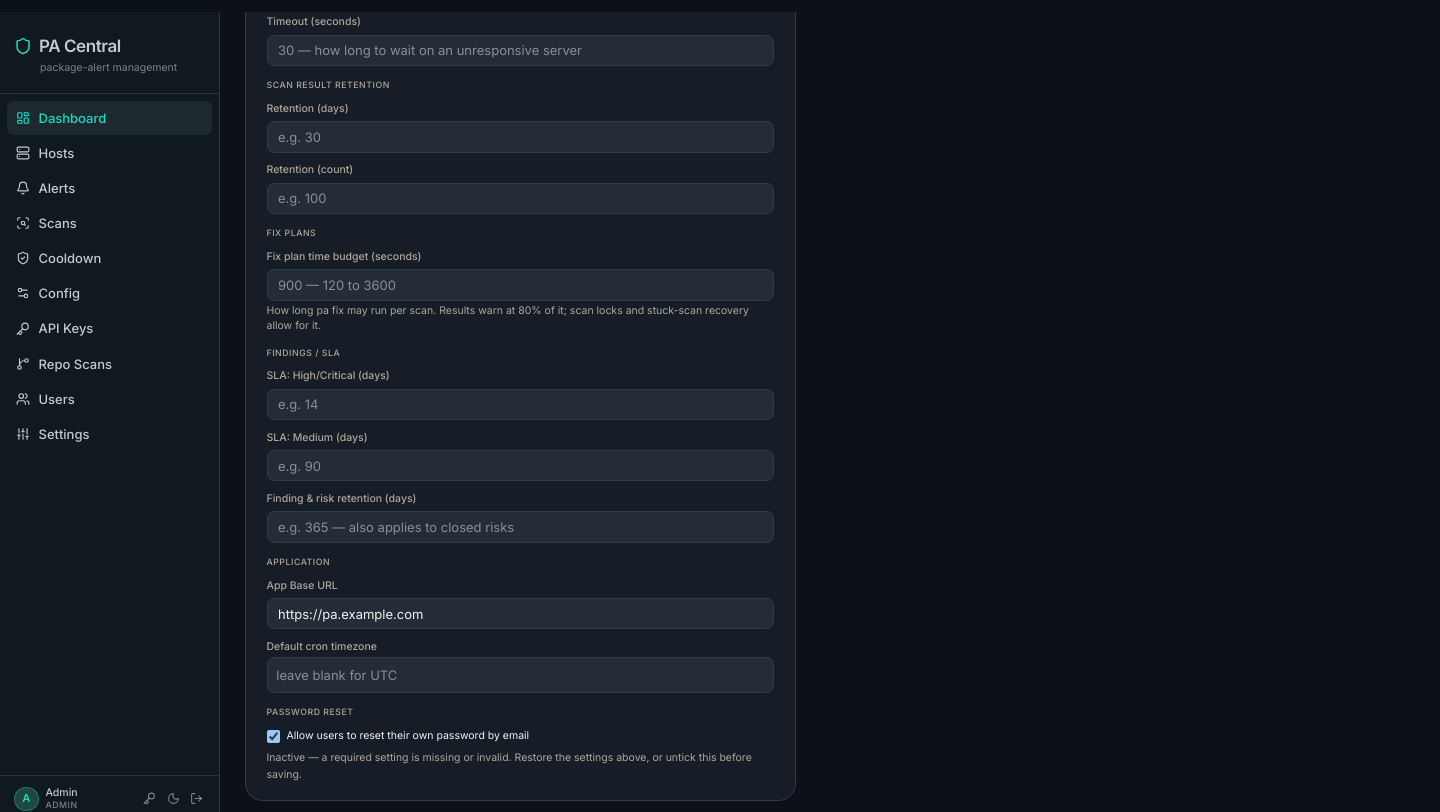
Test: SystemSettings — an unsaved edit to a dependency field cannot act on stale readiness › does not let a slow mount-time readiness response overwrite a fresher post-save one
The image size is (1440, 812).
(page scrolled)
Replace the text in the field labelled "App Base URL" with "https://new.pa.example.com" at (520, 614), box top-left (266, 598), bottom-right (774, 629)
(page scrolled)
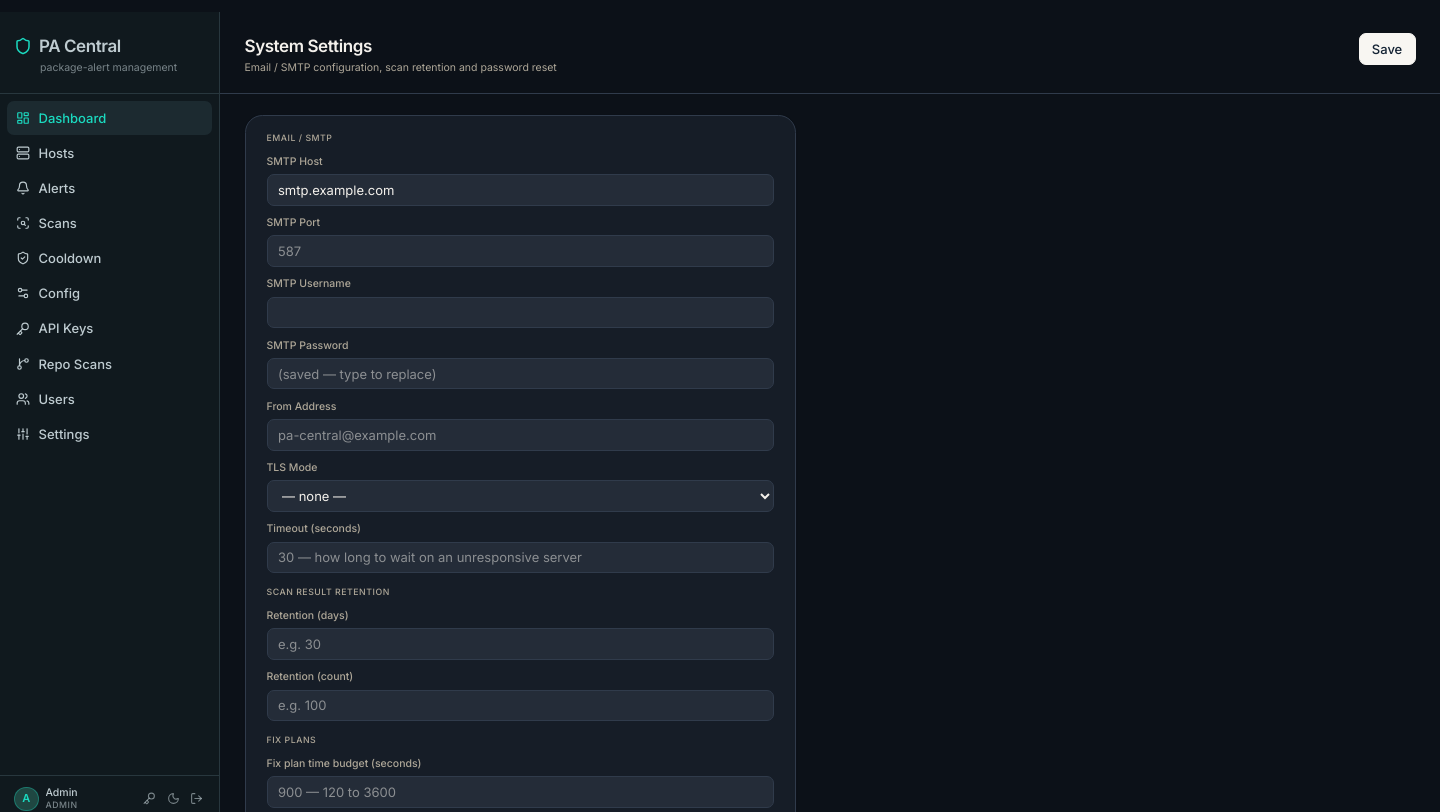
Click the button "Save" at (1387, 49), box top-left (1358, 33), bottom-right (1416, 64)
(page scrolled)
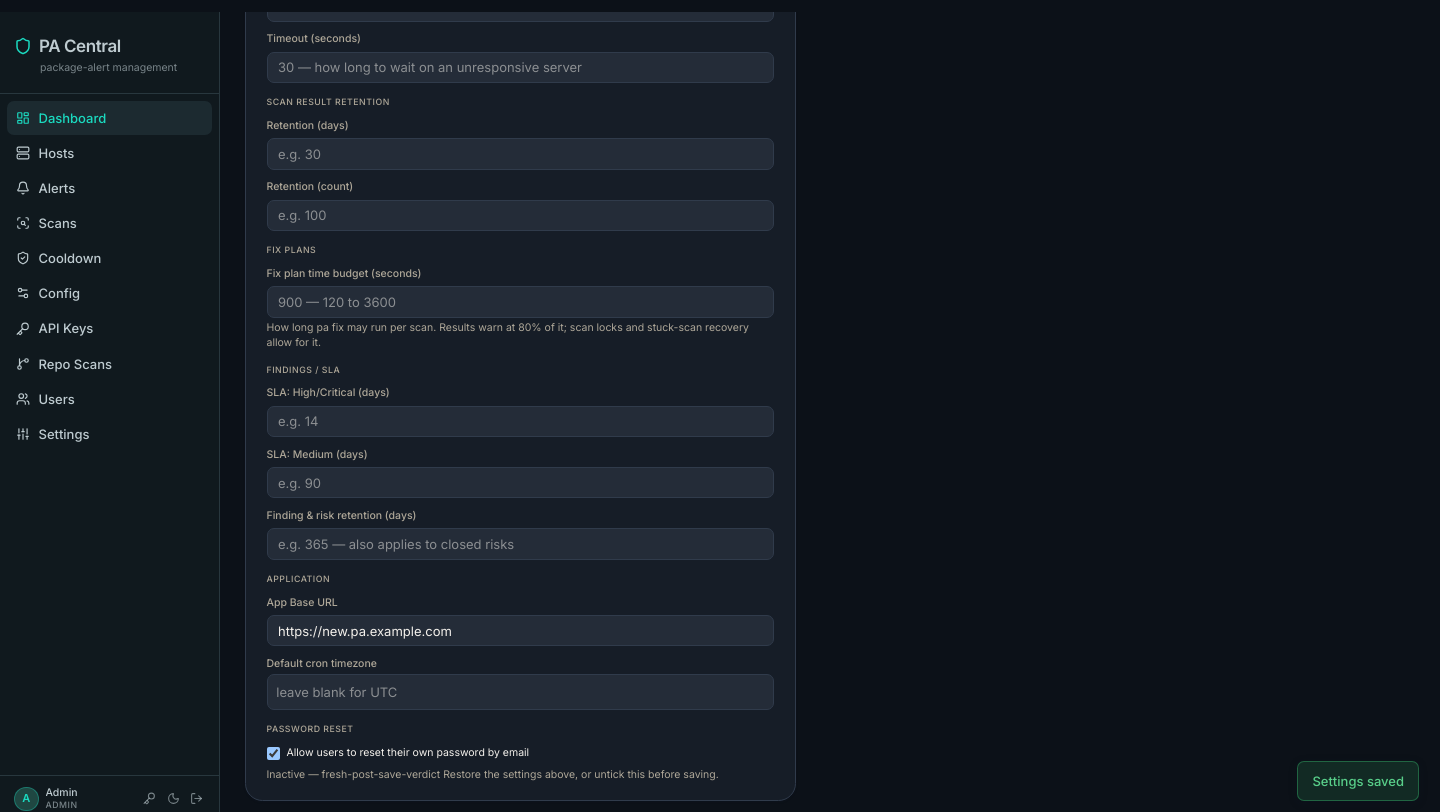
Expected: the text "Settings saved" is shown, top-left (1298, 761), bottom-right (1419, 801)
Expected: the text "fresh-post-save-verdict" is shown, top-left (266, 768), bottom-right (719, 781)
